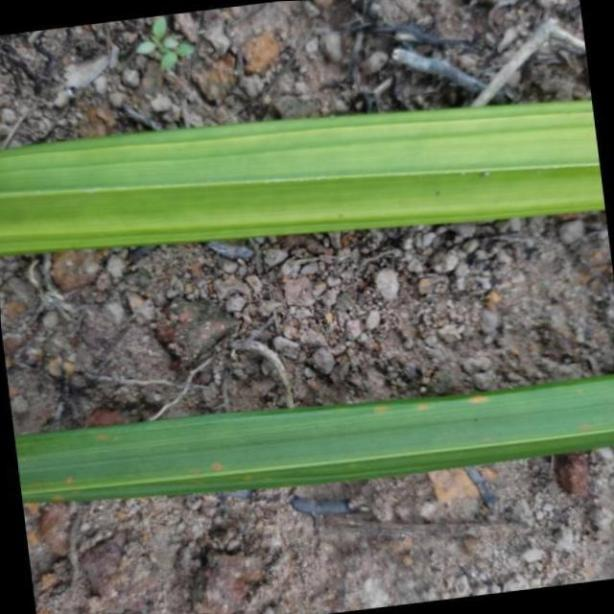nitrogen: (4, 104, 604, 253)
